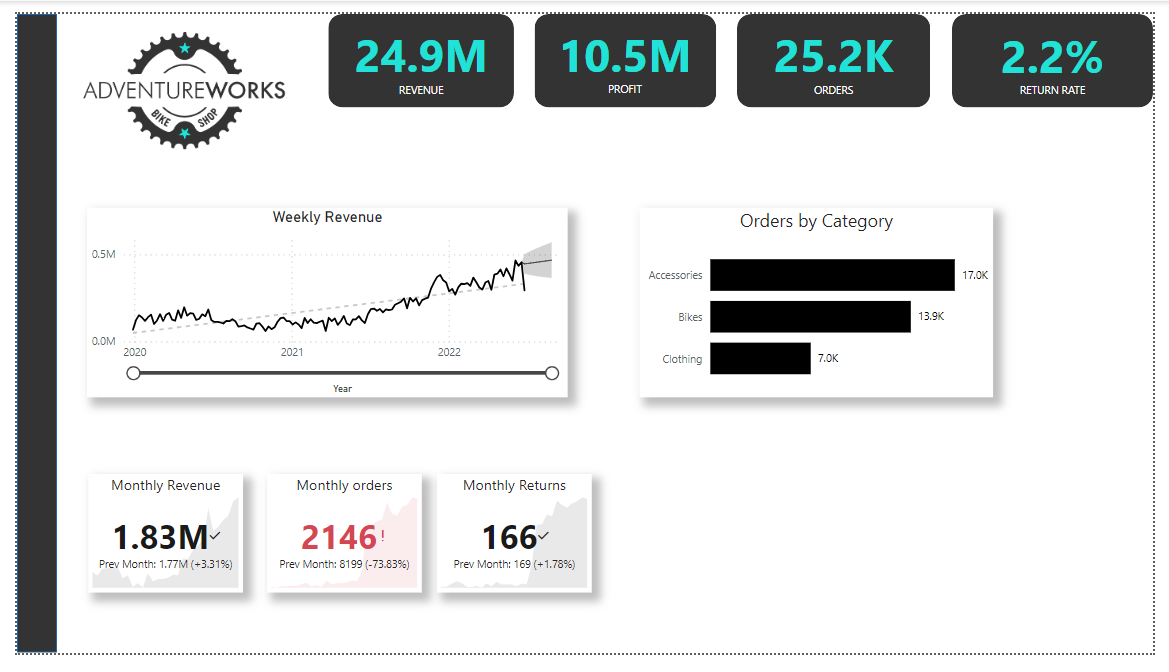

This screenshot's page, from the dashboard's own definition file:
{"tool":"powerbi","page":{"name":"Exec Dashboard","canvas":[1280,720],"ordinal":0},"visuals":[{"type":"image","title":"AW logo","box":[45.3,0,288,173.3],"z":0},{"type":"shape","box":[351.2,0,209.2,105.3],"z":0,"group":"g2"},{"type":"card","fields":{"Values":["Measure Table.total revenue (cc)"]},"box":[372.3,0,167.4,105.3],"z":0,"group":"g3"},{"type":"shape","title":"left nav bg","box":[0,0,45,719.4],"z":1000},{"type":"shape","box":[583.2,0,204.9,105.3],"z":1000,"group":"g2"},{"type":"card","fields":{"Values":["Measure Table.total orders"]},"box":[836.9,0,167.4,105.3],"z":1000,"group":"g3"},{"type":"group","id":"g1","title":"KPIs","box":[351.2,0,928.9,105.3],"z":2000},{"type":"group","id":"g2","title":"kpi bg","box":[351.2,0,928.9,105.3],"z":2000,"group":"g1"},{"type":"card","fields":{"Values":["Measure Table.total profit"]},"box":[601.7,0,167.4,103.9],"z":2000,"group":"g3"},{"type":"shape","box":[811.2,0,217.9,105.3],"z":2000,"group":"g2"},{"type":"group","id":"g3","title":"kpi values","box":[372.3,0,878.6,105.3],"z":3000,"group":"g1"},{"type":"shape","box":[1053.6,0,226.5,105.3],"z":3000,"group":"g2"},{"type":"card","fields":{"Values":["Measure Table.Return Rate"]},"box":[1083.6,10.1,167.4,86.6],"z":3000,"group":"g3"},{"type":"lineChart","title":"Weekly Revenue","fields":{"Y":["Measure Table.total revenue (cc)"],"Category":["Calendar Lookup.Start of Week.Variation.Date Hierarchy.Year","Calendar Lookup.Start of Week.Variation.Date Hierarchy.Quarter","Calendar Lookup.Start of Week.Variation.Date Hierarchy.Month","Calendar Lookup.Start of Week.Variation.Date Hierarchy.Day"]},"box":[79.5,218.9,541.7,214],"z":3000},{"type":"kpi","title":"Monthly Revenue","fields":{"Indicator":["Measure Table.total revenue (cc)"],"TrendLine":["Calendar Lookup.Start of Month"],"Goal":["Measure Table.Previous month revenue"]},"box":[80.1,517.9,174.4,133.5],"z":4000},{"type":"kpi","title":"Monthly orders","fields":{"TrendLine":["Calendar Lookup.Start of Month"],"Indicator":["Measure Table.total orders"],"Goal":["Measure Table.previous month orders"]},"box":[281.2,517.9,174.4,133.5],"z":4001},{"type":"kpi","title":"Monthly Returns","fields":{"TrendLine":["Calendar Lookup.Start of Month"],"Indicator":["Measure Table.Total Returns"],"Goal":["Measure Table.previous month returns"]},"box":[473.4,517.9,174.4,133.5],"z":4002},{"type":"clusteredBarChart","title":" Orders by Category","fields":{"Category":["Product Categories Lookup.CategoryName"],"Y":["Measure Table.total orders"]},"box":[701.2,218.9,398.7,213.6],"z":4003}]}

Visuals, with their boxes in screenshot pixels (x1, y1, x2, y2), scaled from the page's 1280x720 canvas onto the 1169x672 screenshot:
"AW logo" image: Rect(41, 0, 304, 162)
shape: Rect(321, 0, 512, 98)
card - Measure Table.total revenue (cc): Rect(340, 0, 493, 98)
"left nav bg" shape: Rect(0, 0, 41, 671)
shape: Rect(533, 0, 720, 98)
card - Measure Table.total orders: Rect(764, 0, 917, 98)
"KPIs" group: Rect(321, 0, 1168, 98)
"kpi bg" group: Rect(321, 0, 1168, 98)
card - Measure Table.total profit: Rect(550, 0, 702, 97)
shape: Rect(741, 0, 940, 98)
"kpi values" group: Rect(340, 0, 1142, 98)
shape: Rect(962, 0, 1168, 98)
card - Measure Table.Return Rate: Rect(990, 9, 1143, 90)
"Weekly Revenue" lineChart: Rect(73, 204, 567, 404)
"Monthly Revenue" kpi: Rect(73, 483, 232, 608)
"Monthly orders" kpi: Rect(257, 483, 416, 608)
"Monthly Returns" kpi: Rect(432, 483, 592, 608)
" Orders by Category" clusteredBarChart: Rect(640, 204, 1005, 404)
